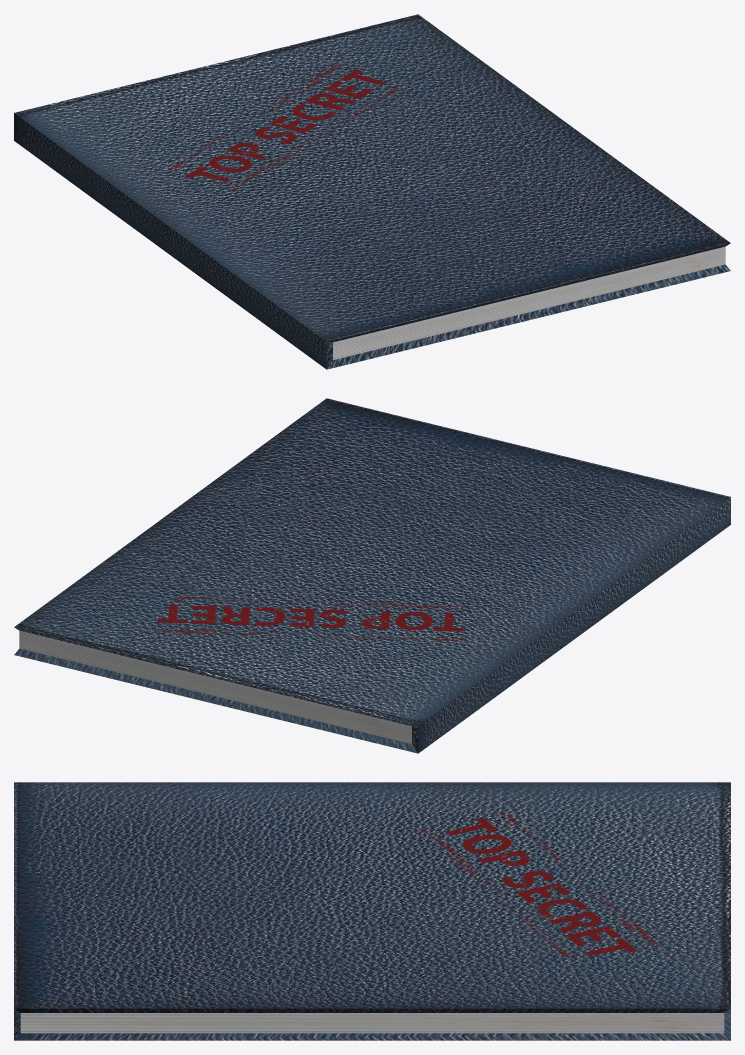
Rendered from Notebook.FBX.
The picture shows the model from 3 angles, top to bottom: view 1: azimuth 30°, elevation 25°; view 2: azimuth 150°, elevation 25°; view 3: azimuth 270°, elevation 25°; orthographic projection. The views are drawn at different scales.
Visible parts, largest first — view 1: notebook; view 2: notebook; view 3: notebook.
Part boxes in pixels (x1,y1,x2,y2): notebook: [14, 14, 730, 369]; notebook: [14, 398, 730, 753]; notebook: [14, 782, 730, 1040].
Bounding box in the file's own units: 24.27 × 1.6 × 32.52.
